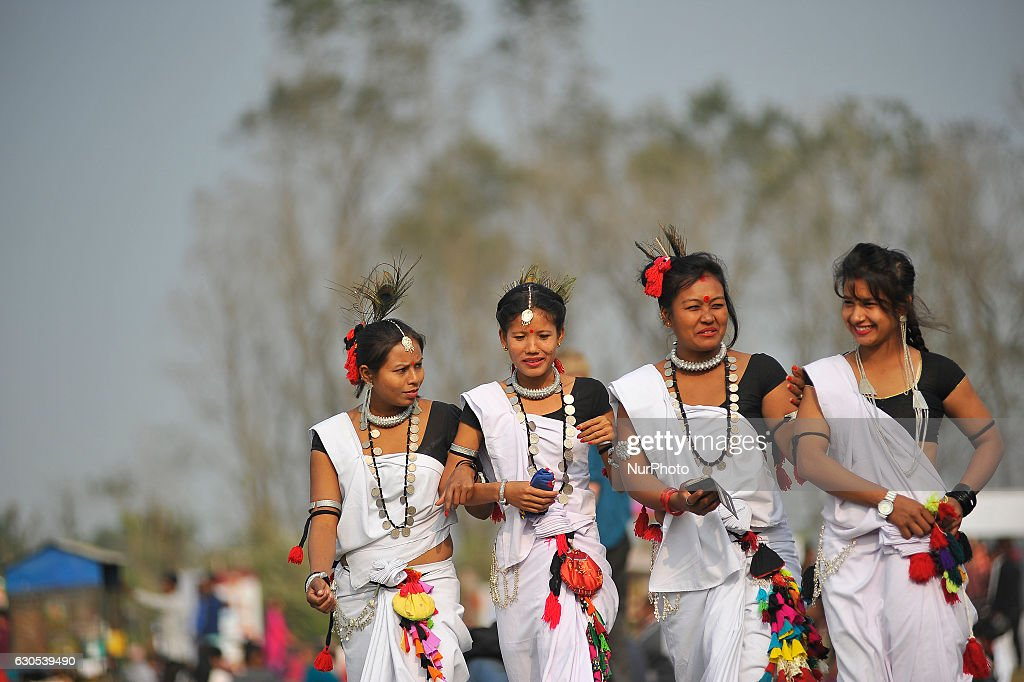human: (782, 230, 1024, 682), (598, 223, 803, 682), (279, 260, 494, 682), (432, 256, 630, 682)
